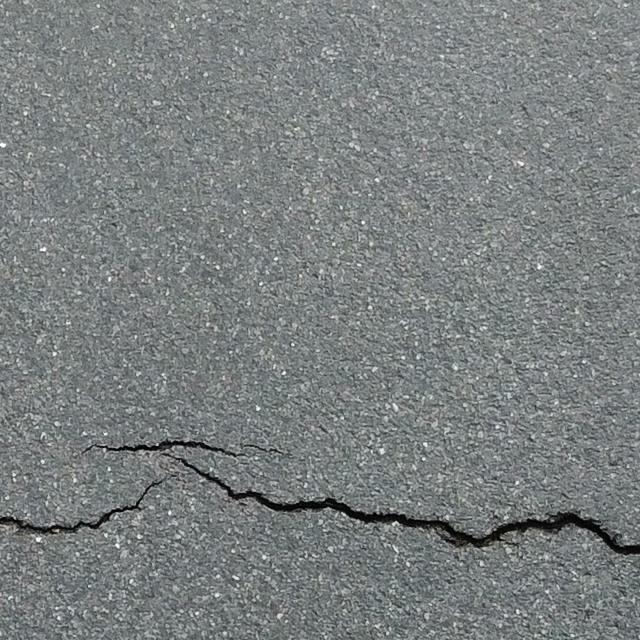TransverseCrack: (160, 454, 640, 555), (2, 470, 167, 535), (101, 440, 238, 457)
